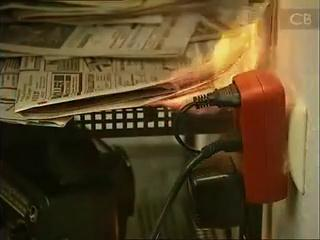Fire: (132, 10, 278, 118)
